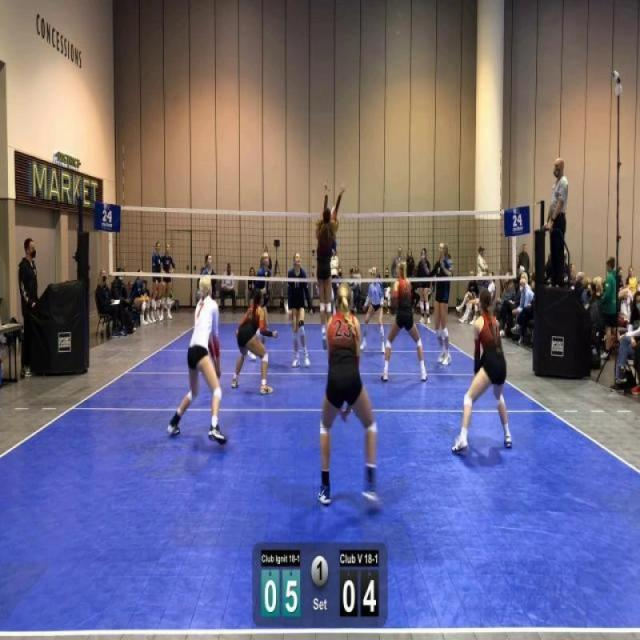volleyball: (330, 204, 339, 216)
